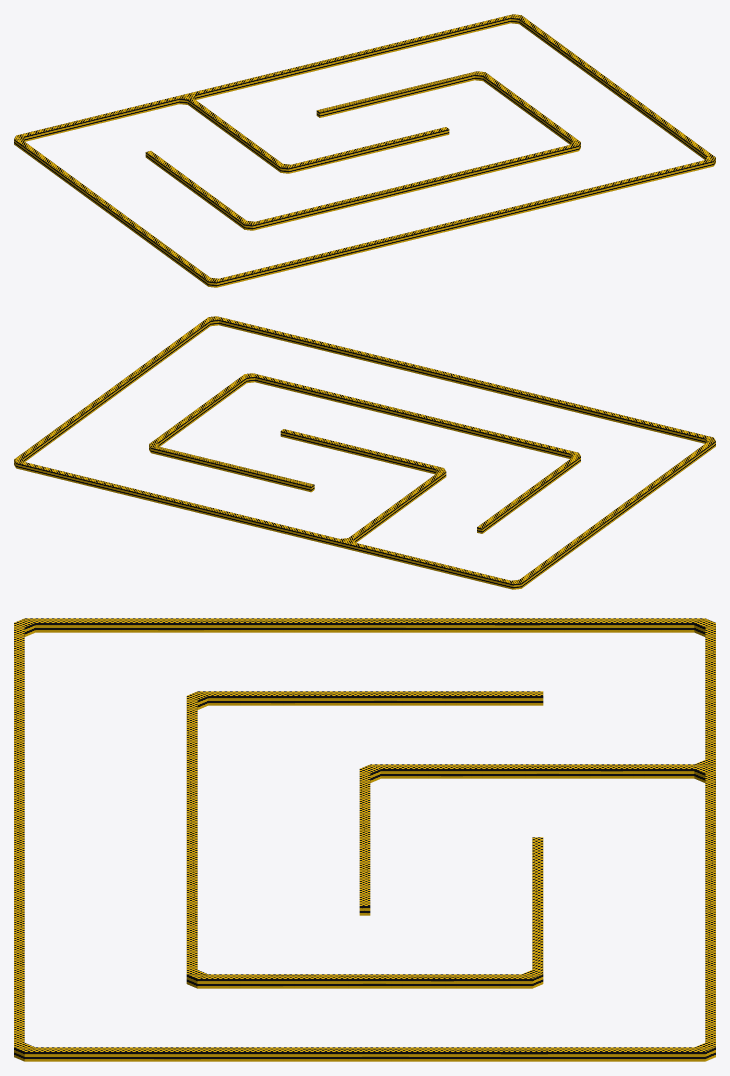
File: Circle Track S.fbx
The picture shows the model from 3 angles, top to bottom: view 1: azimuth 30°, elevation 25°; view 2: azimuth 150°, elevation 25°; view 3: azimuth 270°, elevation 25°; orthographic projection. The views are drawn at different scales.
Visible parts, largest first — view 1: Circle_Track_S; view 2: Circle_Track_S; view 3: Circle_Track_S.
Boxes of the visible parts, box(x1,y1,x2,y2) form: Circle_Track_S: box(14, 14, 715, 287); Circle_Track_S: box(14, 316, 715, 589); Circle_Track_S: box(14, 618, 715, 1061).
Size of the model in its own units: 9500 by 100 by 6500.
